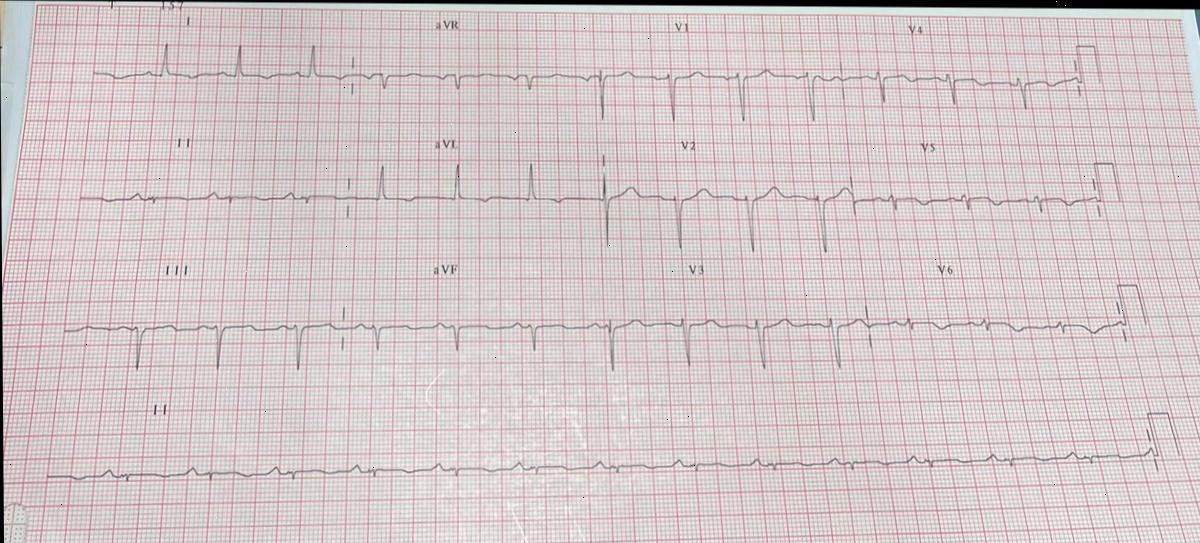Lead_I: (92, 16, 354, 113)
Lead_II: (77, 126, 350, 241)
Lead_III: (58, 247, 343, 381)
Lead_II_ext: (29, 390, 1156, 500)
Lead_V1: (603, 7, 845, 132)
Lead_V2: (601, 122, 855, 259)
Lead_V3: (606, 246, 874, 392)
Lead_V4: (833, 5, 1082, 118)
Lead_V5: (848, 128, 1100, 243)
Lead_V6: (865, 243, 1123, 362)
Lead_aVF: (337, 244, 611, 396)
Lead_aVL: (351, 121, 607, 250)
Lead_aVR: (357, 7, 603, 125)
